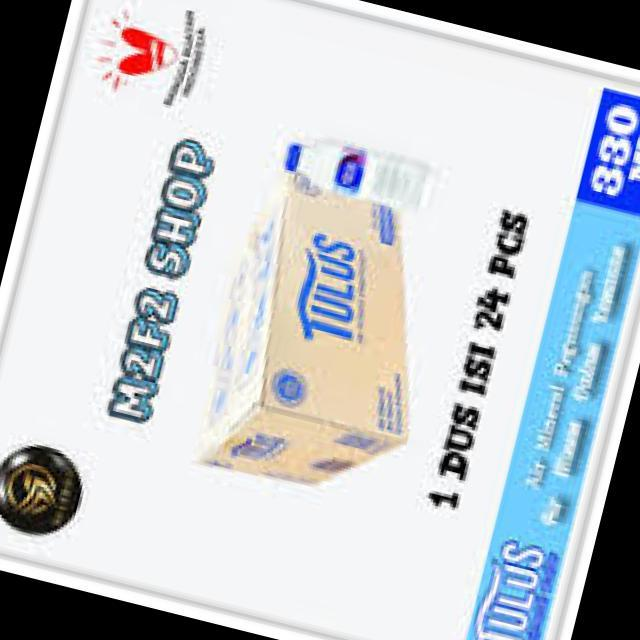good: (272, 107, 436, 228)
